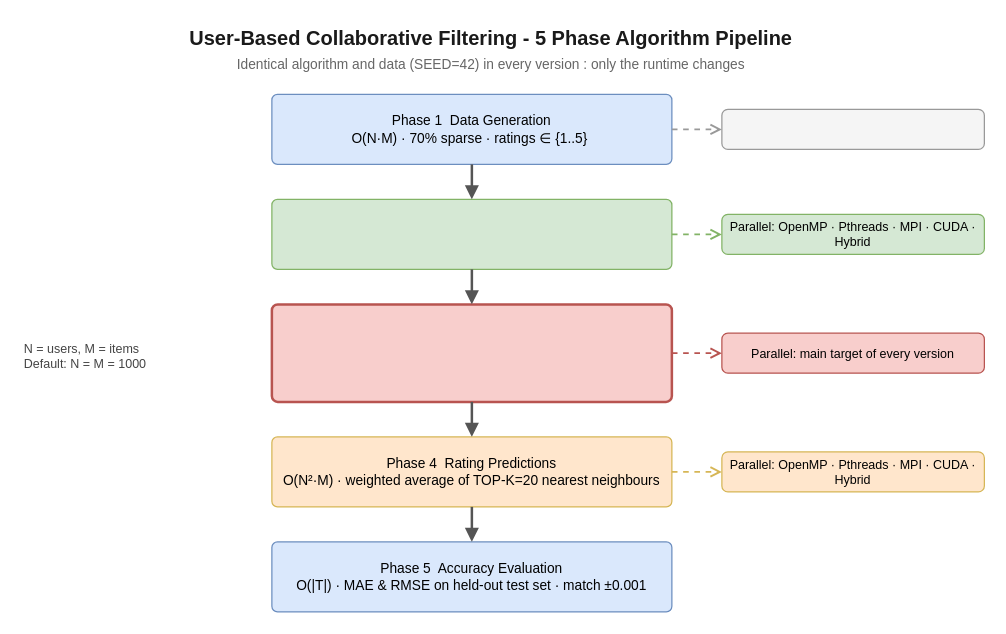
Image size: 1006x634. Some labels were removed from this diagram. The centre of each missing label's shape, as x and y in pixels:
Phase 2 User Means O(N·M) · μ_u = average of each user's known ratings: pixel 471 233
Phase 3 Pearson Similarity Matrix O(N²·M) · ~97% of runtime: pixel 471 352
Serial only: pixel 852 128
